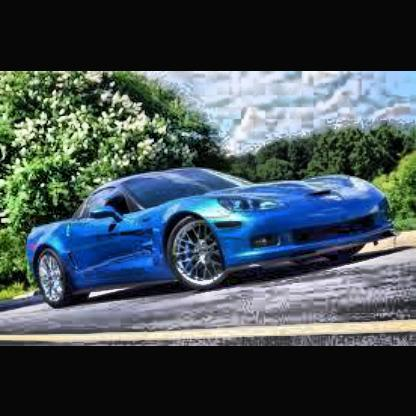Chevrolet Corvette ZR1 2012: (30, 169, 397, 306)
